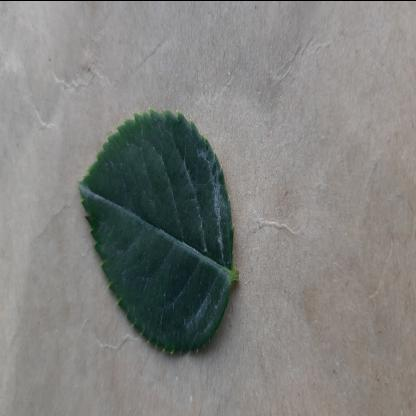normal: (79, 100, 234, 364)
